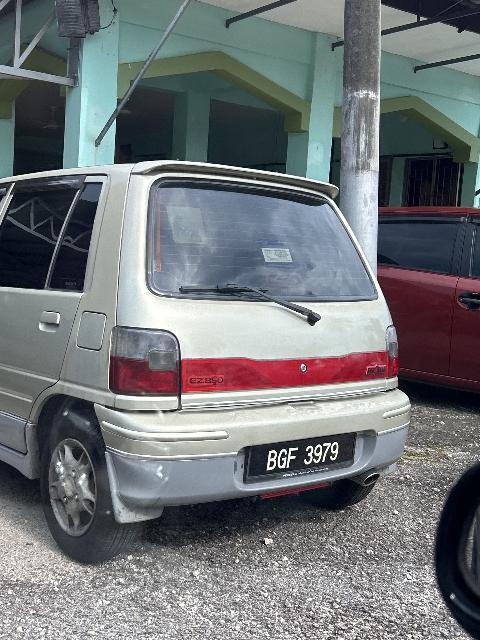BGF3979: (245, 428, 358, 488)
License_Plate: (245, 428, 358, 488)
car: (2, 157, 411, 561), (335, 183, 480, 386)
